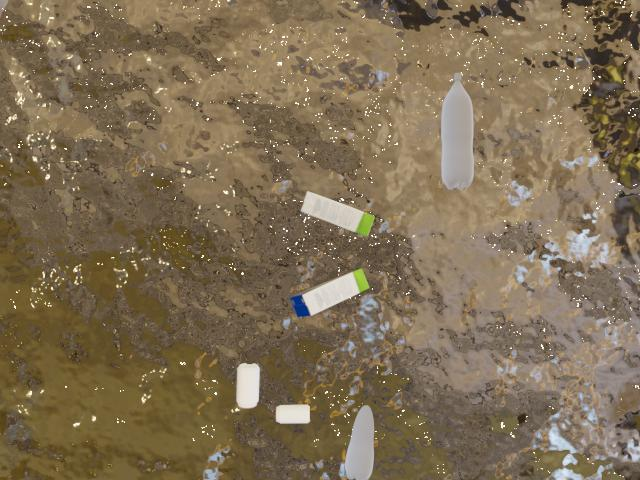Metal: (219, 349, 264, 410), (274, 392, 315, 440)
Trash: (420, 58, 505, 211), (327, 389, 423, 480), (292, 179, 403, 250), (287, 260, 398, 329)
